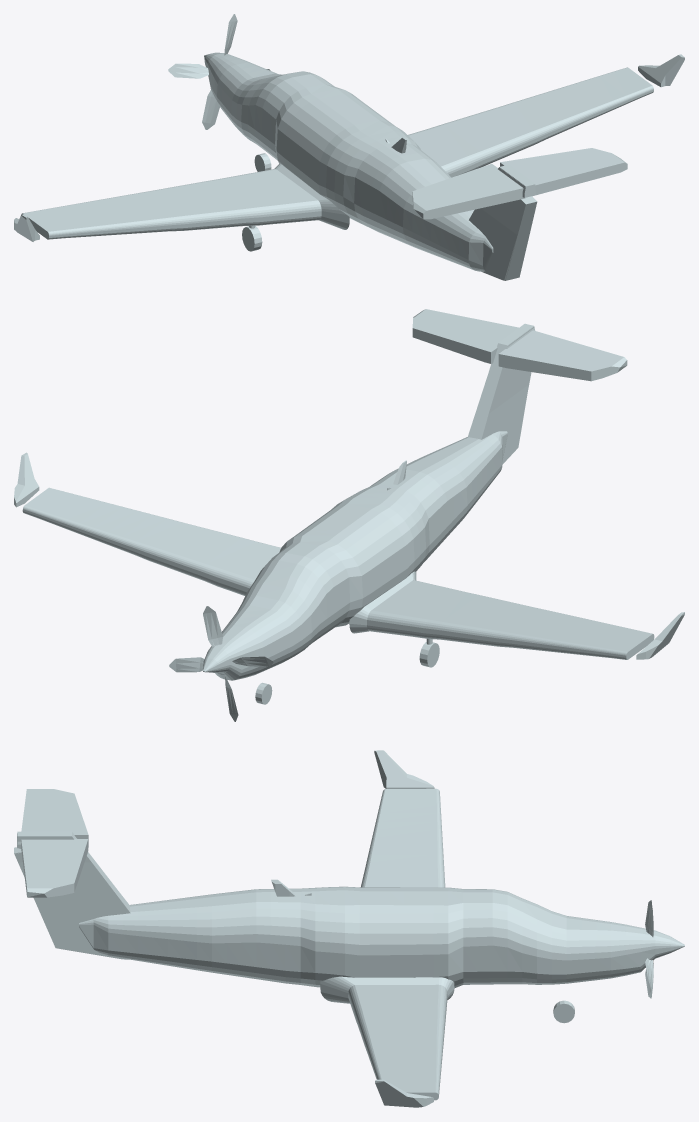
3 renders of one model, top to bottom at view 1: azimuth 30°, elevation 25°; view 2: azimuth 150°, elevation 25°; view 3: azimuth 270°, elevation 25°, orthographic. The views are drawn at different scales.
Visible parts, largest first — view 1: Aircraft visual hull, Rotors, Landing gear; view 2: Aircraft visual hull, Rotors, Landing gear; view 3: Aircraft visual hull.
Part boxes in pixels (x1,y1,x2,y2): Aircraft visual hull: [14, 52, 684, 280]; Rotors: [168, 14, 270, 129]; Landing gear: [242, 153, 271, 251]; Aircraft visual hull: [14, 309, 684, 680]; Rotors: [169, 606, 273, 721]; Landing gear: [255, 639, 439, 704]; Aircraft visual hull: [14, 750, 684, 1107].
Bounding box in the file's own units: 16.3 × 4.33 × 13.99.
